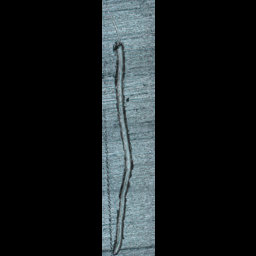d: (107, 37, 134, 255)
